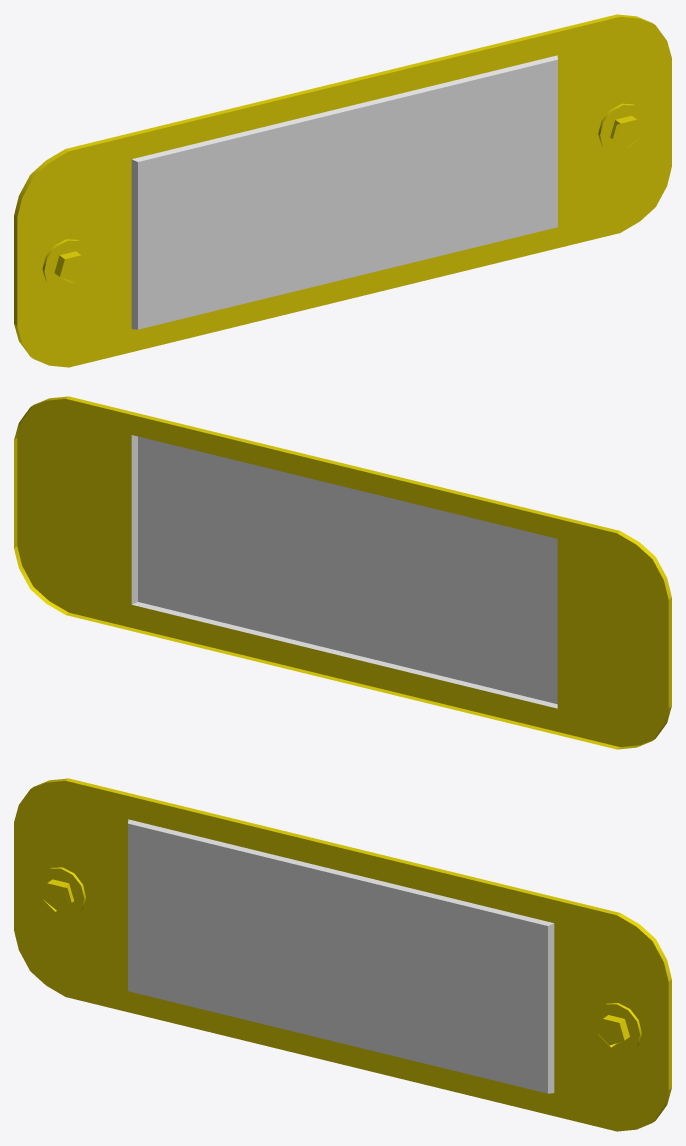
Rendered from levelPlaque.fbx.
3 renders of one model, top to bottom at view 1: azimuth 30°, elevation 25°; view 2: azimuth 150°, elevation 25°; view 3: azimuth 330°, elevation 25°, orthographic.
Visible parts, largest first — view 1: levelPlaque; view 2: levelPlaque; view 3: levelPlaque.
Boxes of the visible parts, x1,y1,x2,y2 form: levelPlaque: (14,14,671,367); levelPlaque: (14,396,671,749); levelPlaque: (14,778,671,1131).
Size of the model in its own units: 2.94 by 0.9263 by 0.0817.
